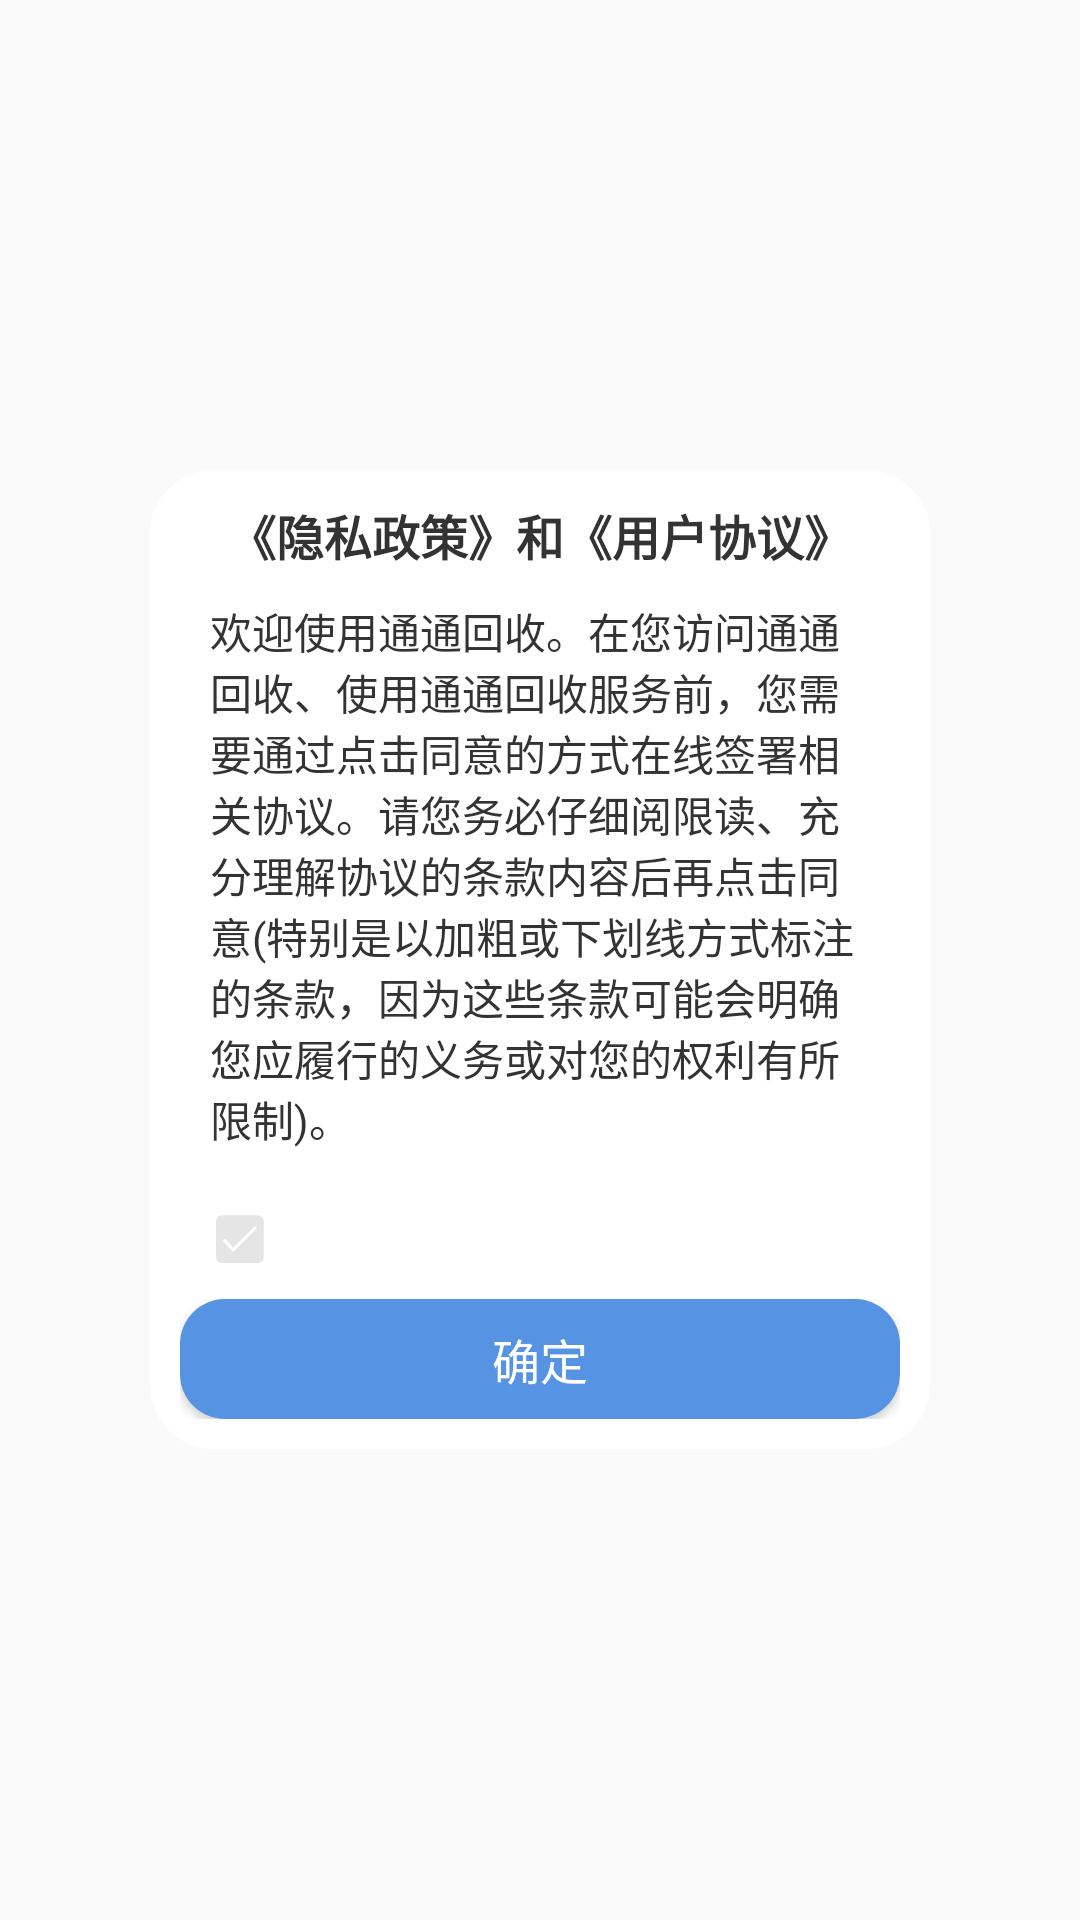

Where to tap for icons on this 1080*1920 app screen, as (x,y):
gou: (239,1239)
